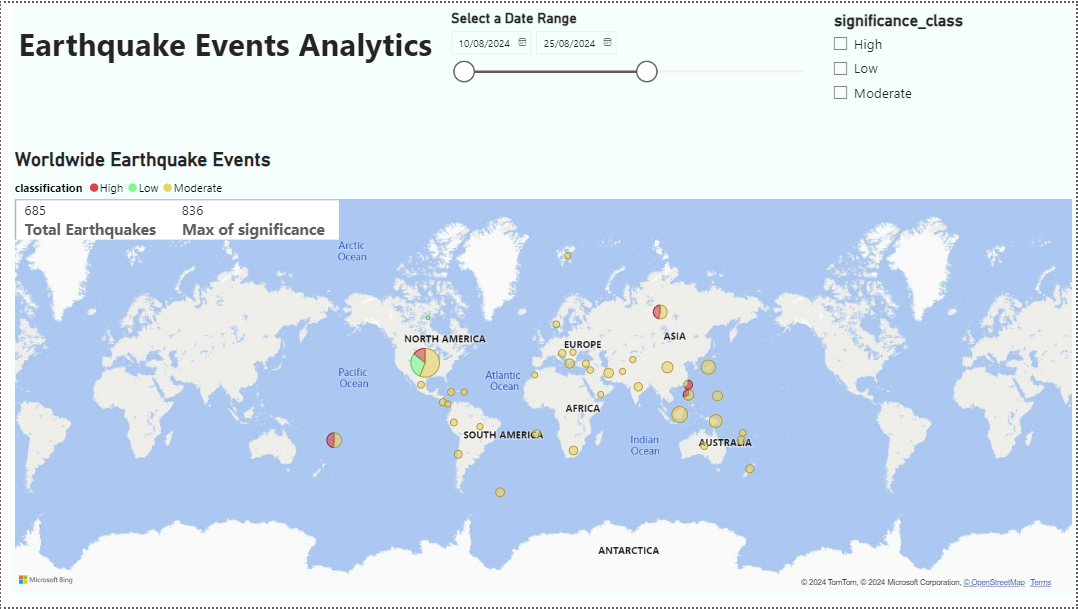

The page's visual inventory and layout, read from the dashboard file:
{"tool":"powerbi","page":{"name":"Page 2","canvas":[1280,720],"ordinal":1},"visuals":[{"type":"map","title":"Worldwide Earthquake Events","fields":{"Category":["earthquake_events_gold.country_code"],"Size":["Sum(earthquake_events_gold.significance)"],"Series":["earthquake_events_gold.significance_class"]},"box":[11.2,172.5,1268.8,533.8],"z":0},{"type":"slicer","fields":{"Values":["earthquake_events_gold.time"]},"box":[522.9,2.9,455.7,172.9],"z":1000},{"type":"slicer","fields":{"Values":["earthquake_events_gold.significance_class"]},"box":[978.6,4.3,301.4,172.9],"z":2000},{"type":"multiRowCard","fields":{"Values":["earthquake_events_gold.id","Max(earthquake_events_gold.significance)"]},"box":[12,230,396,76],"z":3000},{"type":"textbox","box":[11.4,0,511.4,172.9],"z":4000}]}

Visuals, with their boxes in screenshot pixels (x1, y1, x2, y2), scaled from the page's 1280x720 canvas onto the 1078x609 screenshot:
"Worldwide Earthquake Events" map: detection(9, 146, 1077, 597)
slicer - earthquake_events_gold.time: detection(440, 2, 824, 149)
slicer - earthquake_events_gold.significance_class: detection(824, 4, 1077, 150)
multiRowCard - earthquake_events_gold.id x Max(earthquake_events_gold.significance): detection(10, 195, 344, 259)
textbox: detection(10, 0, 440, 146)
